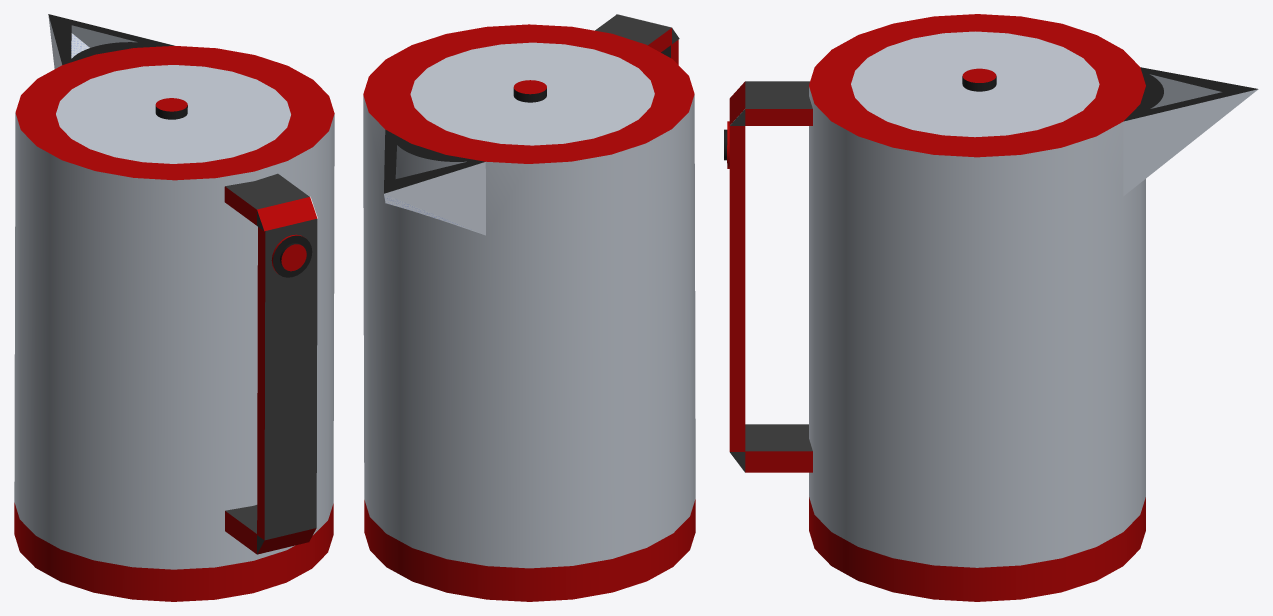
The model's file is kettle.dae.
3 views of the same model, side by side, from view 1: azimuth 30°, elevation 25°; view 2: azimuth 150°, elevation 25°; view 3: azimuth 270°, elevation 25° (orthographic). The views are drawn at different scales.
Visible parts, largest first — view 1: SketchUp (×15); view 2: SketchUp (×8); view 3: SketchUp (×11).
Part boxes in pixels (x1,y1,x2,y2): SketchUp (×15): (14,14,334,601); SketchUp (×8): (363,14,695,601); SketchUp (×11): (729,14,1258,601).
Bounding box in the file's own units: 6.6 × 10.42 × 9.76.
6 materials, 5 textured.
